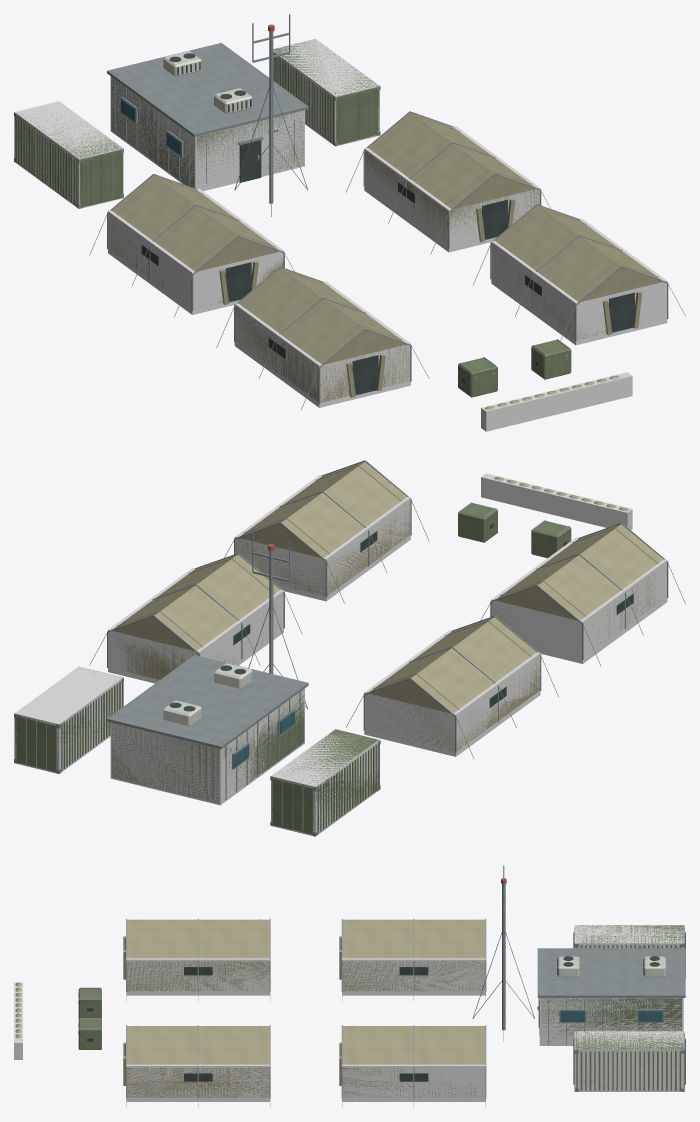
The model's file is FieldCamp.fbx.
3 renders of one model, top to bottom at view 1: azimuth 30°, elevation 25°; view 2: azimuth 150°, elevation 25°; view 3: azimuth 270°, elevation 25°, orthographic. The views are drawn at different scales.
Parts seen in each view (by area): view 1: LOD0, COL_Static; view 2: LOD0, COL_Static; view 3: LOD0, COL_Static.
Part boxes in pixels (x1,y1,x2,y2): LOD0: (14,14,685,426); COL_Static: (14,38,667,431); LOD0: (14,460,685,836); COL_Static: (14,473,667,836); LOD0: (15,865,685,1107); COL_Static: (14,925,684,1101).
Size of what is drawn, in the model's own units: 2102 by 960 by 3739.
